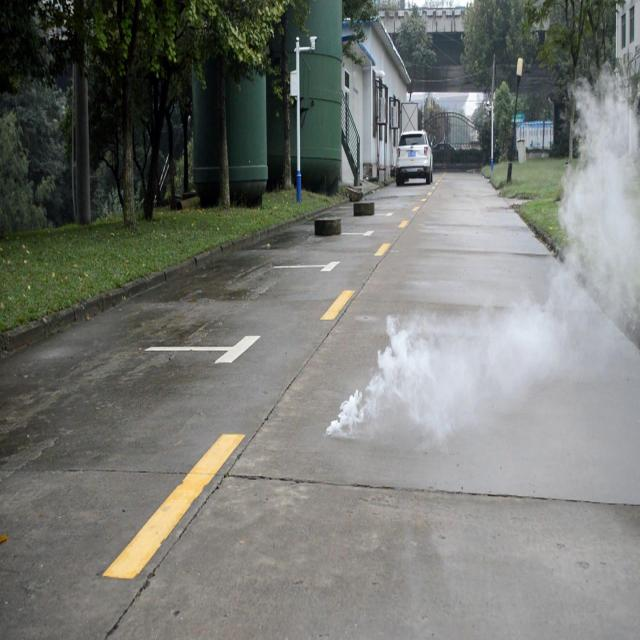smoke: (325, 60, 638, 450)
